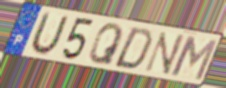5: (59, 16, 97, 62)
D: (111, 26, 156, 71)
M: (169, 34, 220, 83)
N: (141, 31, 187, 77)
Q: (87, 23, 124, 67)
U: (28, 10, 71, 57)
